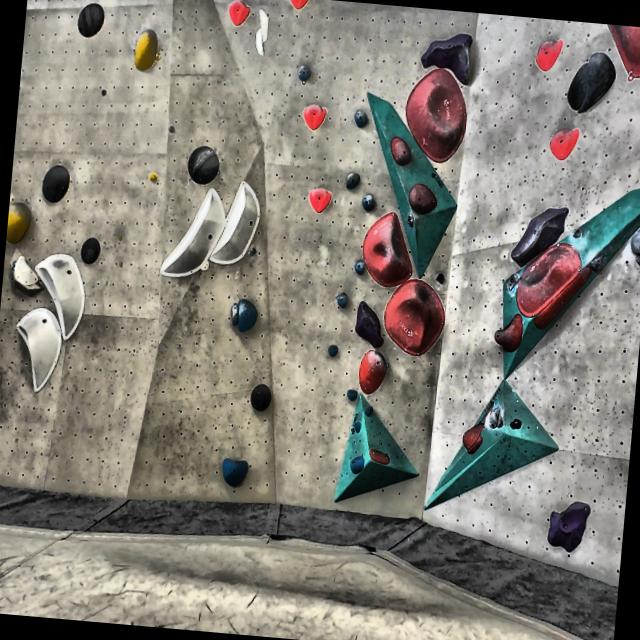Hold: (393, 62, 468, 164), (514, 240, 588, 328), (163, 186, 225, 283), (380, 279, 454, 359), (36, 249, 94, 341), (7, 304, 64, 396), (509, 195, 575, 265), (213, 182, 262, 276), (354, 210, 413, 285), (562, 52, 621, 116), (543, 494, 592, 564), (413, 28, 482, 77), (599, 23, 640, 82), (356, 346, 388, 401), (134, 24, 162, 78), (6, 193, 34, 245), (186, 139, 219, 183), (488, 313, 526, 350), (42, 160, 72, 206), (224, 290, 258, 330), (548, 125, 584, 162), (72, 1, 104, 40), (407, 178, 439, 216), (8, 254, 42, 288), (252, 9, 274, 57), (528, 36, 556, 72), (455, 424, 487, 454), (304, 186, 332, 218), (249, 381, 273, 418), (482, 398, 508, 432), (222, 457, 249, 488), (223, 0, 249, 29), (301, 102, 325, 132), (78, 234, 99, 268), (364, 446, 394, 468), (629, 215, 640, 273), (387, 140, 407, 169), (346, 163, 362, 194), (345, 452, 364, 478), (341, 388, 363, 408), (296, 62, 314, 86), (346, 110, 366, 130), (324, 341, 344, 361), (348, 259, 366, 277), (331, 288, 347, 308), (590, 251, 608, 268), (507, 415, 523, 434), (350, 415, 364, 436), (288, 0, 312, 12), (362, 194, 378, 208), (363, 404, 378, 413)
